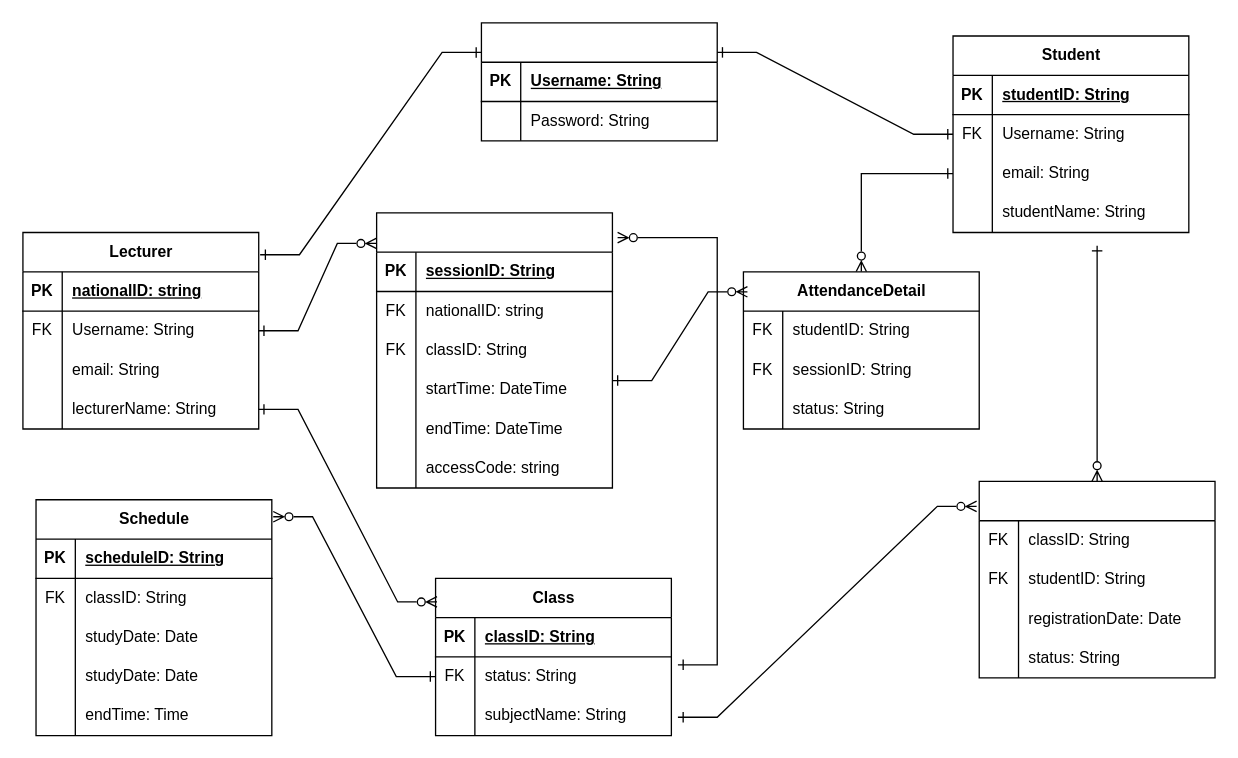
Some shapes in this 1238 by 758 pixel diagram are drawn without their labels. Each missing label, with the box of its shape:
Account: (480, 22, 717, 141)
AttendanceSession: (375, 212, 612, 488)
CourseRegistration: (978, 480, 1215, 678)
